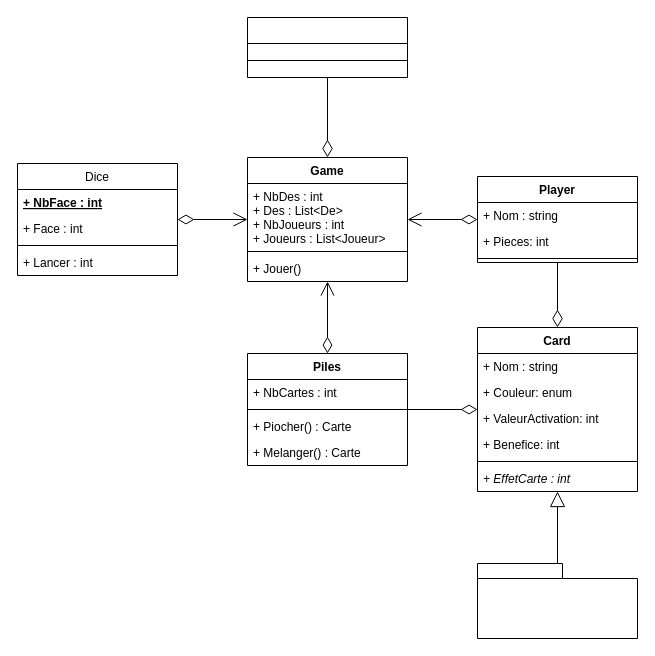
This 655x656 diagram has some shape labels left out. Here are the shapes that lost their labels. From the top down, the centre of each, then its label:
point (327, 47): Program
point (557, 600): Card's implementation
